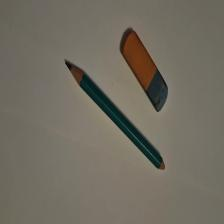eraser: (121, 30, 169, 114)
pencil: (66, 62, 166, 172)
